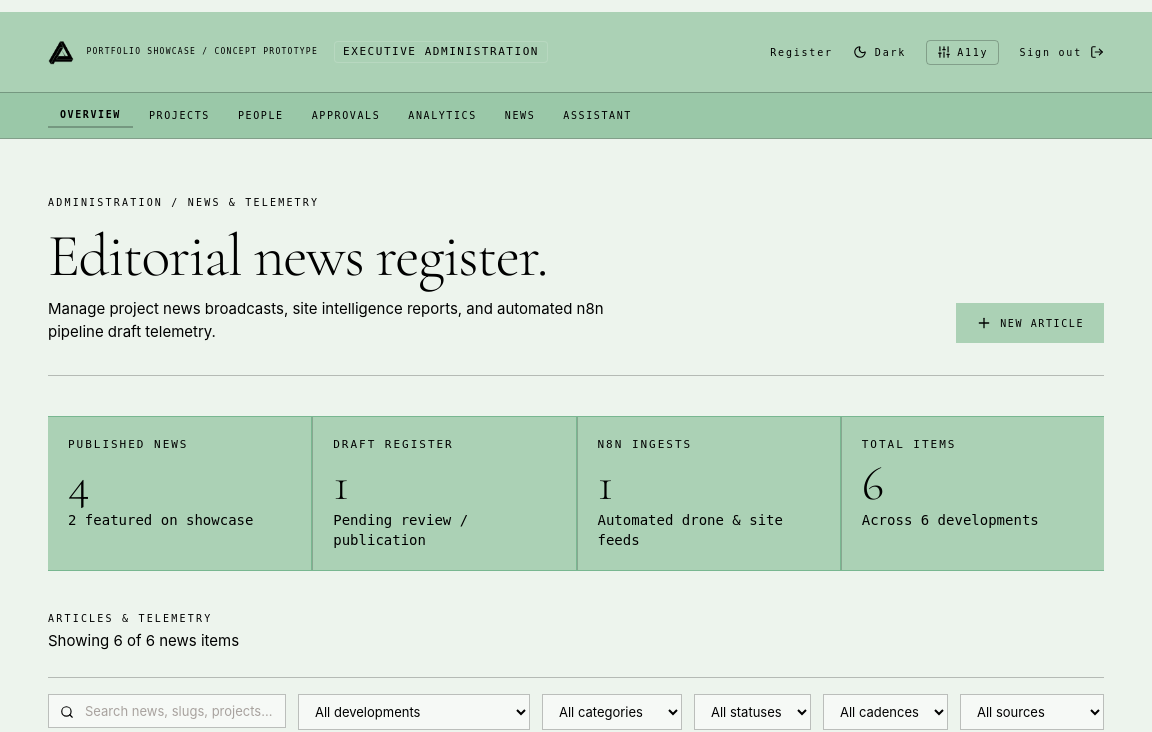
AdminNewsPage UI and Management › filters articles by status
This screenshot has width=1152, height=732.
Select "Draft" in the dropdown named "Filter by status". click: (752, 712)
box: [694, 694, 811, 730]
(page scrolled)
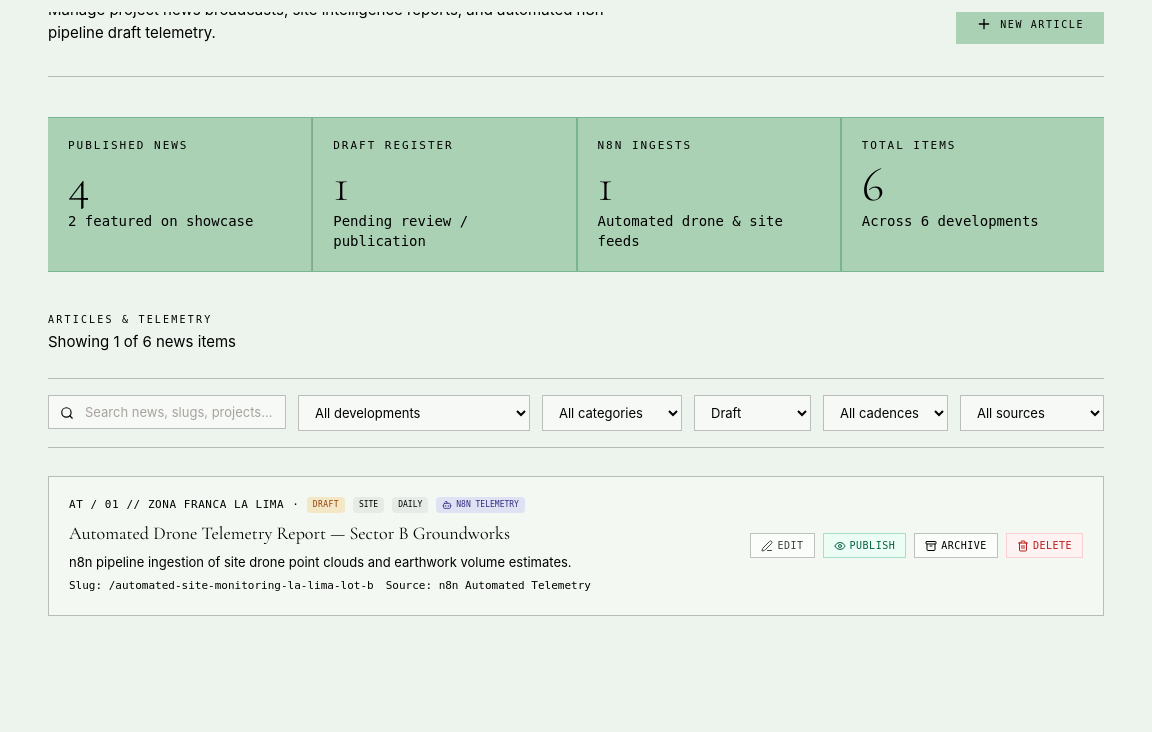
Result: the heading "Automated Drone Telemetry Report — Sector B Groundworks" is shown at [69, 522, 510, 544]
